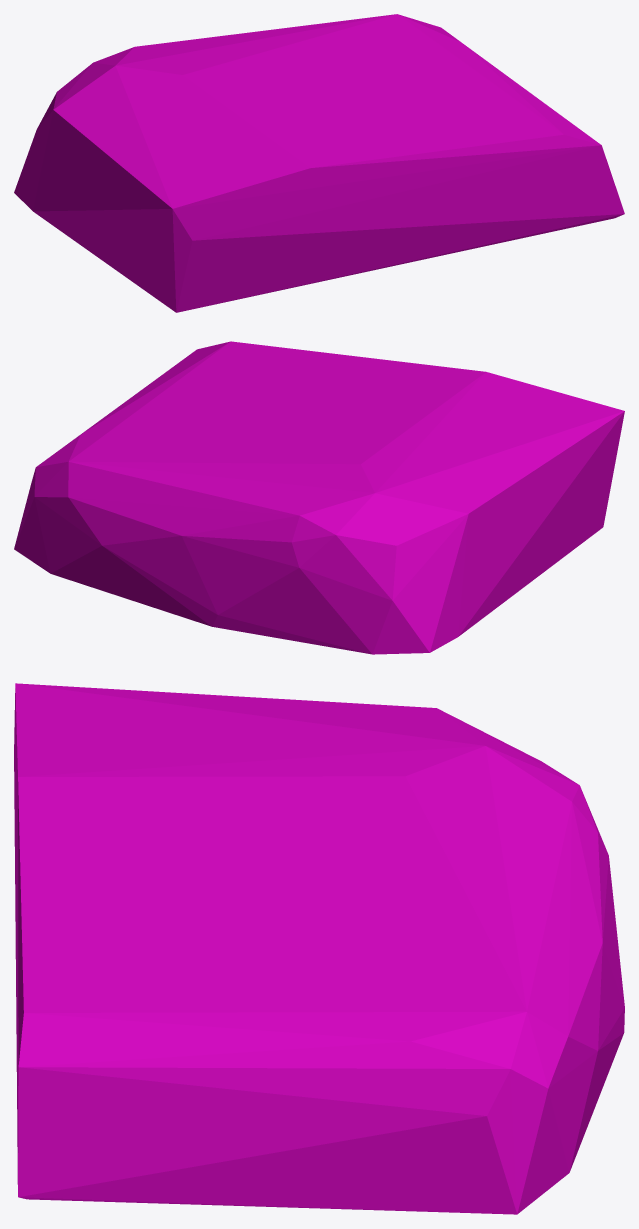
File: hip-roll-housing-mirror_convex_piece_001.obj
3 views of the same model, one above another, from view 1: azimuth 30°, elevation 25°; view 2: azimuth 150°, elevation 25°; view 3: azimuth 270°, elevation 25° (orthographic). The views are drawn at different scales.
Size of the model in its own units: 0.1159 by 0.033 by 0.0889.
